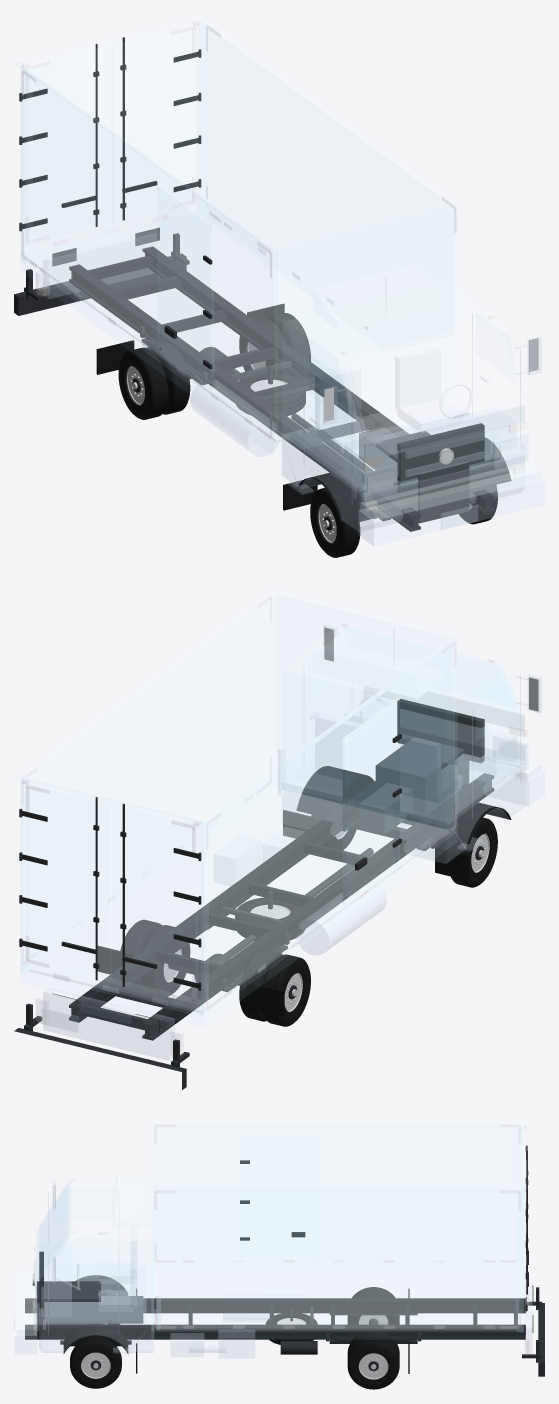
The model's file is vw_delivery_kzb_raiox.glb.
3 renders of one model, top to bottom at view 1: azimuth 30°, elevation 25°; view 2: azimuth 150°, elevation 25°; view 3: azimuth 270°, elevation 25°, orthographic. The views are drawn at different scales.
Visible parts, largest first — view 1: Floor, Cab_Skirt, Rail_Flange_Top (×2), Tire (×5), Front_Bumper, Seat_Back (×2), Engine, Dashboard, Rail_Web (×2), Front_Bumper_Lip, Crossmember (×5), Radiator (+12 smaller); view 2: Floor, Cab_Skirt, Rail_Flange_Top (×2), Tire (×6), Rear_Panel, Engine, Dashboard, Crossmember (×6), Rail_Web (×2), Wheel_Arch_Liner (×2), Seat_Back (×2), Radiator (+11 smaller); view 3: Floor, Cab_Skirt, Rail_Flange_Top (×2), Rail_Web (×2), Tire (×5), Cab_Floor, Rail_Flange_Bottom (×2), Engine, Dashboard, Front_Bumper, Seat_Base (×2), Wheel_Arch_Liner (×2) (+11 smaller).
Part boxes in pixels (x1=…): Floor: x1=31, y1=218, x2=384, y2=442; Cab_Skirt: x1=282, y1=396, x2=524, y2=531; Rail_Flange_Top (×2): x1=69, y1=246, x2=494, y2=519; Tire (×5): x1=118, y1=313, x2=360, y2=557; Front_Bumper: x1=358, y1=469, x2=544, y2=546; Seat_Back (×2): x1=315, y1=346, x2=440, y2=430; Engine: x1=375, y1=431, x2=469, y2=523; Dashboard: x1=344, y1=408, x2=516, y2=484; Rail_Web (×2): x1=71, y1=253, x2=491, y2=529; Front_Bumper_Lip: x1=360, y1=462, x2=541, y2=520; Crossmember (×5): x1=88, y1=256, x2=374, y2=441; Radiator: x1=397, y1=423, x2=484, y2=487; Floor: x1=29, y1=788, x2=448, y2=1013; Cab_Skirt: x1=282, y1=754, x2=524, y2=863; Rail_Flange_Top (×2): x1=69, y1=773, x2=493, y2=1027; Tire (×6): x1=120, y1=817, x2=497, y2=1026; Rear_Panel: x1=43, y1=988, x2=174, y2=1060; Engine: x1=375, y1=737, x2=468, y2=816; Dashboard: x1=345, y1=701, x2=516, y2=774; Crossmember (×6): x1=82, y1=842, x2=368, y2=1030; Rail_Web (×2): x1=71, y1=780, x2=491, y2=1038; Wheel_Arch_Liner (×2): x1=296, y1=766, x2=511, y2=852; Seat_Back (×2): x1=315, y1=714, x2=440, y2=797; Radiator: x1=397, y1=699, x2=484, y2=762; Floor: x1=156, y1=1267, x2=518, y2=1329; Cab_Skirt: x1=39, y1=1264, x2=153, y2=1352; Rail_Flange_Top (×2): x1=25, y1=1298, x2=525, y2=1330; Rail_Web (×2): x1=25, y1=1304, x2=525, y2=1336; Tire (×5): x1=70, y1=1294, x2=399, y2=1389; Cab_Floor: x1=45, y1=1265, x2=146, y2=1322; Rail_Flange_Bottom (×2): x1=25, y1=1310, x2=525, y2=1339; Engine: x1=36, y1=1281, x2=100, y2=1324; Dashboard: x1=41, y1=1244, x2=71, y2=1316; Front_Bumper: x1=15, y1=1275, x2=37, y2=1353; Seat_Base (×2): x1=99, y1=1262, x2=133, y2=1311; Wheel_Arch_Liner (×2): x1=63, y1=1275, x2=128, y2=1354.
Size of the model in its own units: 2.72 by 3.4 by 7.84.
